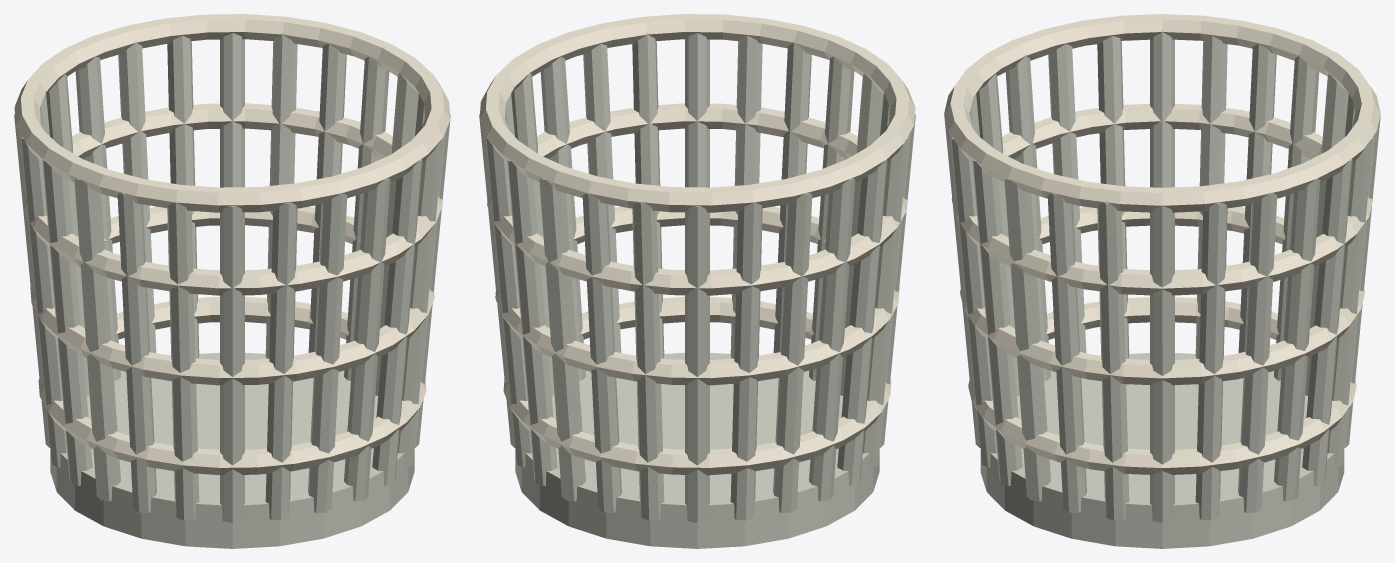
Rendered from laundry_basket.glb.
3 views of the same model, side by side, from view 1: azimuth 30°, elevation 25°; view 2: azimuth 150°, elevation 25°; view 3: azimuth 270°, elevation 25° (orthographic).
Visible parts, largest first — view 1: laundry_basket_Mesh; view 2: laundry_basket_Mesh; view 3: laundry_basket_Mesh.
Part boxes in pixels (x1,y1,x2,y2): laundry_basket_Mesh: (14,14,450,548); laundry_basket_Mesh: (479,14,915,548); laundry_basket_Mesh: (944,14,1380,548).
Size of the model in its own units: 0.552 by 0.5139 by 0.552.
